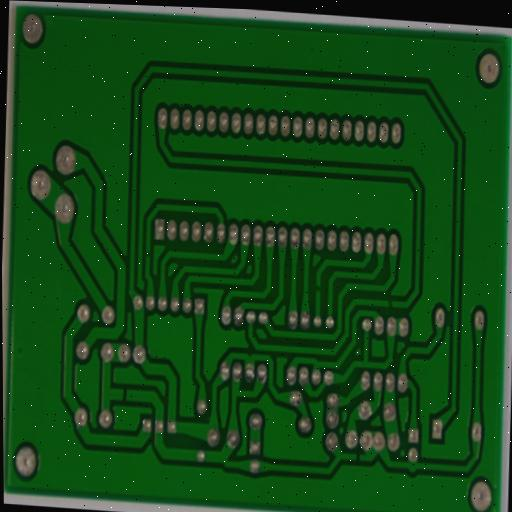open_circuit: (119, 385, 129, 405), (386, 296, 396, 311), (313, 281, 323, 295), (143, 246, 152, 261), (353, 452, 361, 464)
